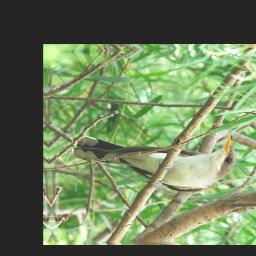Cuckoo: (71, 130, 237, 196)
